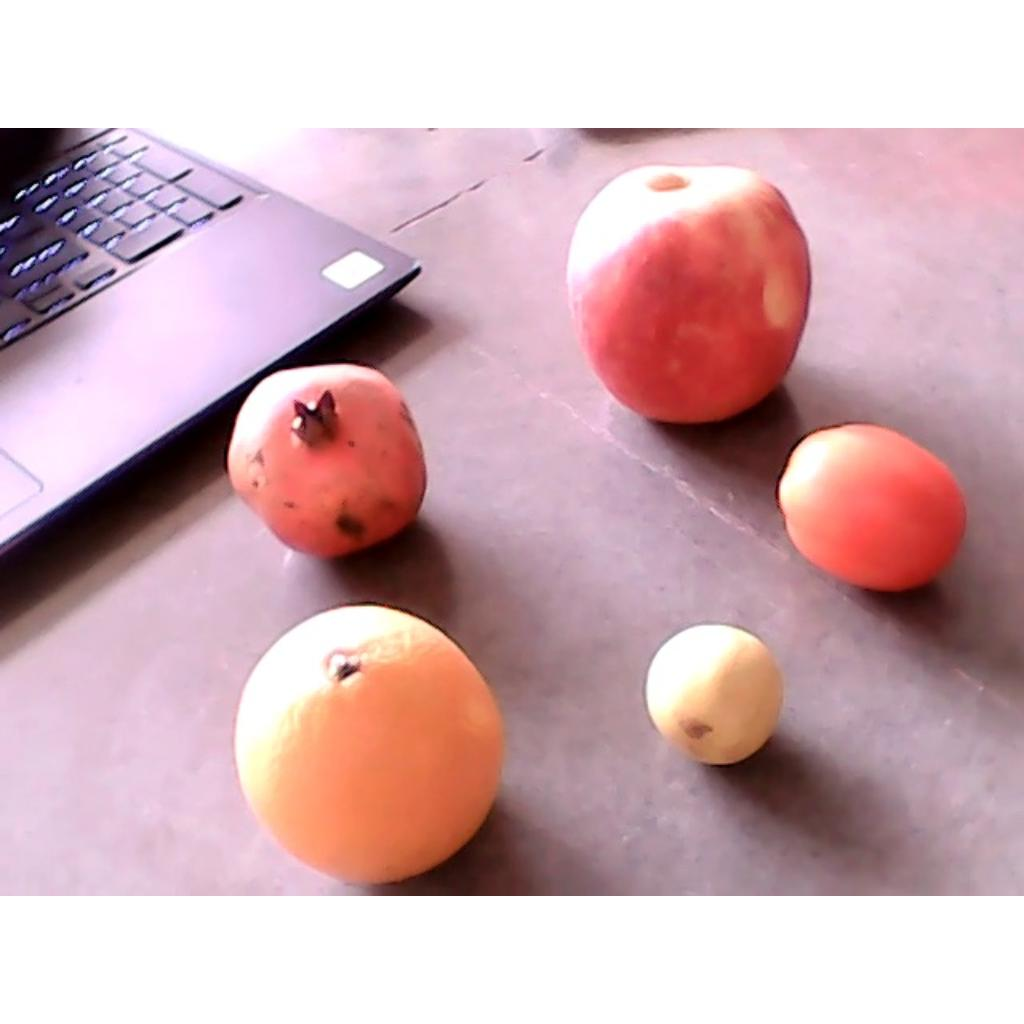apple: (566, 165, 812, 426)
lemon: (648, 623, 784, 764)
orange: (234, 604, 504, 885)
pomegranate: (227, 363, 428, 560)
tomato: (777, 422, 968, 592)
